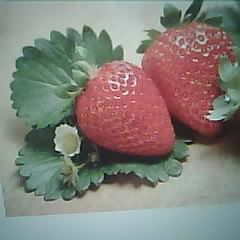straw-ripe: (144, 23, 237, 138), (77, 60, 175, 156)
